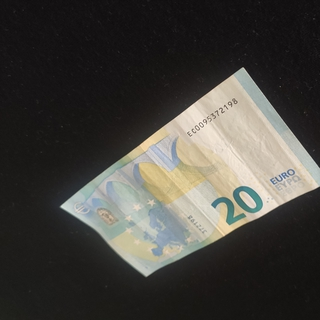20EUROBack: (59, 66, 320, 277)
